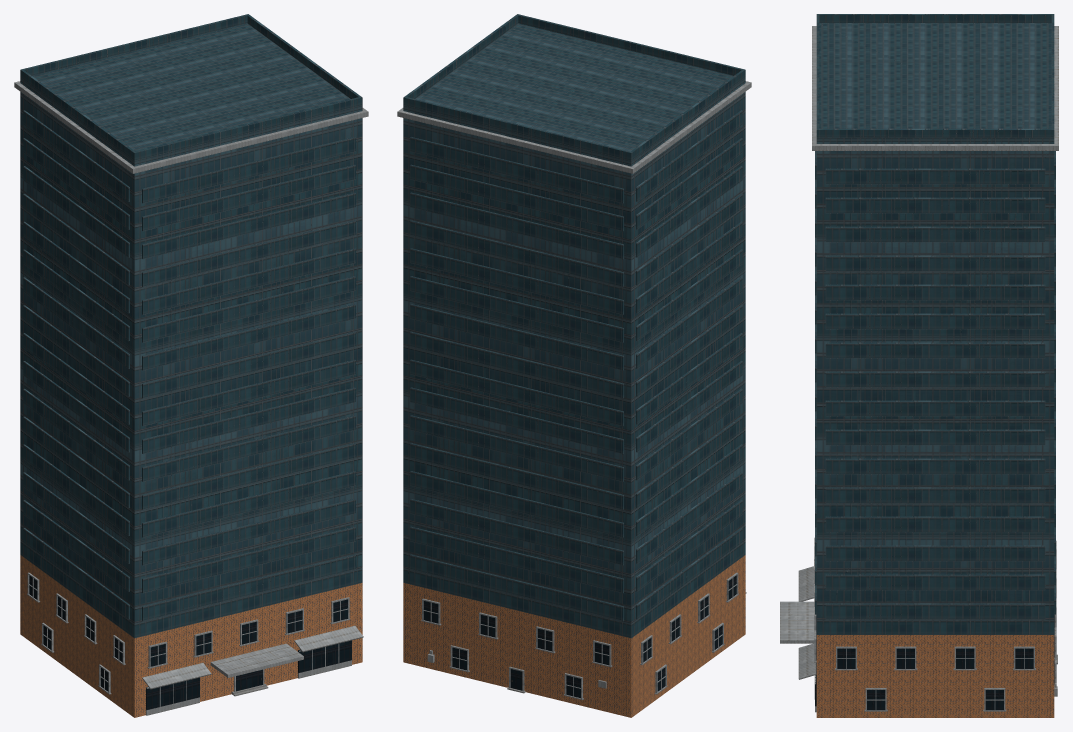
Rendered from cass-corridor-tower_lod0.gltf.
3 renders of one model, left to right at view 1: azimuth 30°, elevation 25°; view 2: azimuth 150°, elevation 25°; view 3: azimuth 270°, elevation 25°, orthographic. The views are drawn at different scales.
Visible parts, largest first — view 1: cass-corridor-tower_upper, cass-corridor-tower_fen_07-glass-curtain-blue_0, cass-corridor-tower_base, cass-corridor-tower_fen_07-glass-curtain-blue_2_t, cass-corridor-tower_fen_14-steel-panel_1, cass-corridor-tower__cornice, cass-corridor-tower__parapet_front, cass-corridor-tower__parapet_back, cass-corridor-tower__canopy, cass-corridor-tower__parapet_left, cass-corridor-tower__parapet_right, cass-corridor-tower__awning_a (+1 smaller); view 2: cass-corridor-tower_upper, cass-corridor-tower_fen_07-glass-curtain-blue_0, cass-corridor-tower_base, cass-corridor-tower_fen_07-glass-curtain-blue_2_t, cass-corridor-tower_fen_14-steel-panel_1, cass-corridor-tower__cornice, cass-corridor-tower__parapet_back, cass-corridor-tower__parapet_front, cass-corridor-tower__parapet_left, cass-corridor-tower__parapet_right; view 3: cass-corridor-tower_upper, cass-corridor-tower_fen_07-glass-curtain-blue_0, cass-corridor-tower_base, cass-corridor-tower__cornice, cass-corridor-tower_fen_07-glass-curtain-blue_2_t, cass-corridor-tower__parapet_left, cass-corridor-tower__parapet_right, cass-corridor-tower_fen_14-steel-panel_1, cass-corridor-tower__canopy, cass-corridor-tower__awning_b, cass-corridor-tower__awning_a, cass-corridor-tower__parapet_front (+1 smaller).
Boxes of the visible parts, x1,y1,x2,y2 form: cass-corridor-tower_upper: [20, 23, 362, 638]; cass-corridor-tower_fen_07-glass-curtain-blue_0: [23, 110, 355, 621]; cass-corridor-tower_base: [20, 555, 362, 717]; cass-corridor-tower_fen_07-glass-curtain-blue_2_t: [29, 575, 351, 709]; cass-corridor-tower_fen_14-steel-panel_1: [27, 572, 351, 715]; cass-corridor-tower__cornice: [14, 81, 368, 173]; cass-corridor-tower__parapet_front: [133, 96, 362, 160]; cass-corridor-tower__parapet_back: [20, 14, 249, 77]; cass-corridor-tower__canopy: [210, 643, 303, 677]; cass-corridor-tower__parapet_left: [21, 70, 134, 159]; cass-corridor-tower__parapet_right: [247, 15, 360, 98]; cass-corridor-tower__awning_a: [142, 663, 211, 689]; cass-corridor-tower_upper: [403, 23, 745, 638]; cass-corridor-tower_fen_07-glass-curtain-blue_0: [410, 110, 742, 621]; cass-corridor-tower_base: [403, 555, 745, 717]; cass-corridor-tower_fen_07-glass-curtain-blue_2_t: [423, 575, 736, 698]; cass-corridor-tower_fen_14-steel-panel_1: [421, 572, 738, 700]; cass-corridor-tower__cornice: [397, 81, 751, 173]; cass-corridor-tower__parapet_back: [403, 96, 632, 160]; cass-corridor-tower__parapet_front: [516, 14, 745, 77]; cass-corridor-tower__parapet_left: [631, 70, 744, 159]; cass-corridor-tower__parapet_right: [405, 15, 518, 98]; cass-corridor-tower_upper: [816, 23, 1054, 634]; cass-corridor-tower_fen_07-glass-curtain-blue_0: [815, 151, 1055, 619]; cass-corridor-tower_base: [816, 635, 1054, 717]; cass-corridor-tower__cornice: [812, 26, 1058, 150]; cass-corridor-tower_fen_07-glass-curtain-blue_2_t: [815, 615, 1054, 710]; cass-corridor-tower__parapet_left: [819, 14, 1051, 23]; cass-corridor-tower__parapet_right: [819, 128, 1051, 137]; cass-corridor-tower_fen_14-steel-panel_1: [814, 537, 1057, 712]; cass-corridor-tower__canopy: [780, 601, 814, 643]; cass-corridor-tower__awning_b: [798, 643, 816, 679]; cass-corridor-tower__awning_a: [798, 566, 814, 601]; cass-corridor-tower__parapet_front: [816, 14, 819, 137].
Bounding box in the file's own units: 31 × 71 × 30.5.
